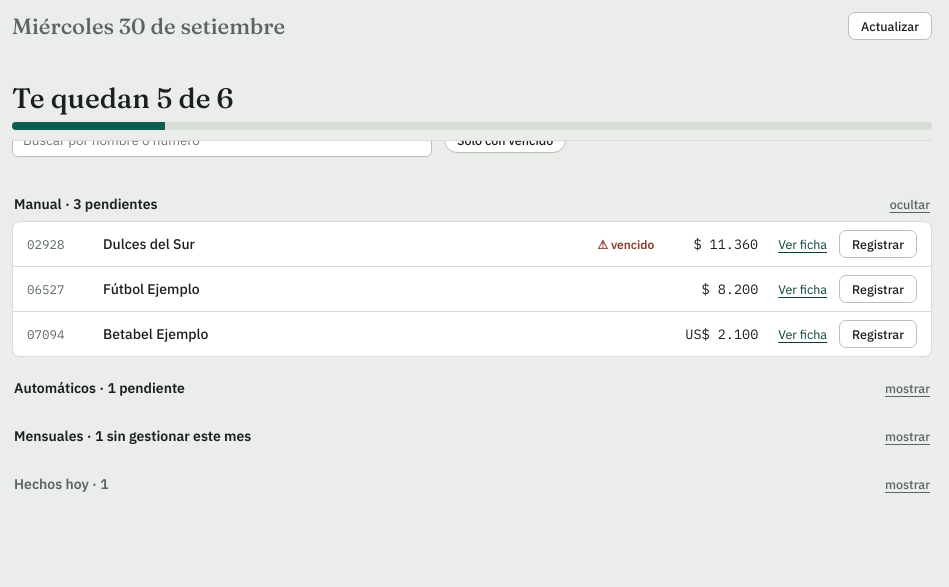
Test: MiDiaPage: registrar sin salir › 'No contactado' queda anotado pero el cliente sigue pendiente
This screenshot has width=949, height=587.
Expected: the text "Te quedan 5 de 6" is shown, [12, 81, 234, 115]
Click the button with aria-label "Registrar gestión de Dulces del Sur" at (878, 244), box [839, 230, 917, 258]
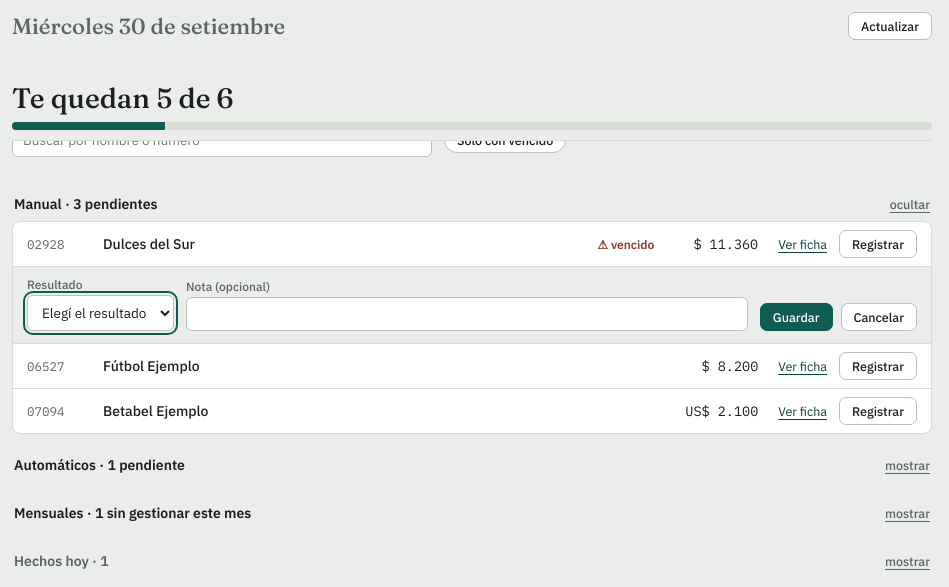
Select "No contactado" in the dropdown labelled "Resultado" at (100, 313), box [27, 295, 174, 331]
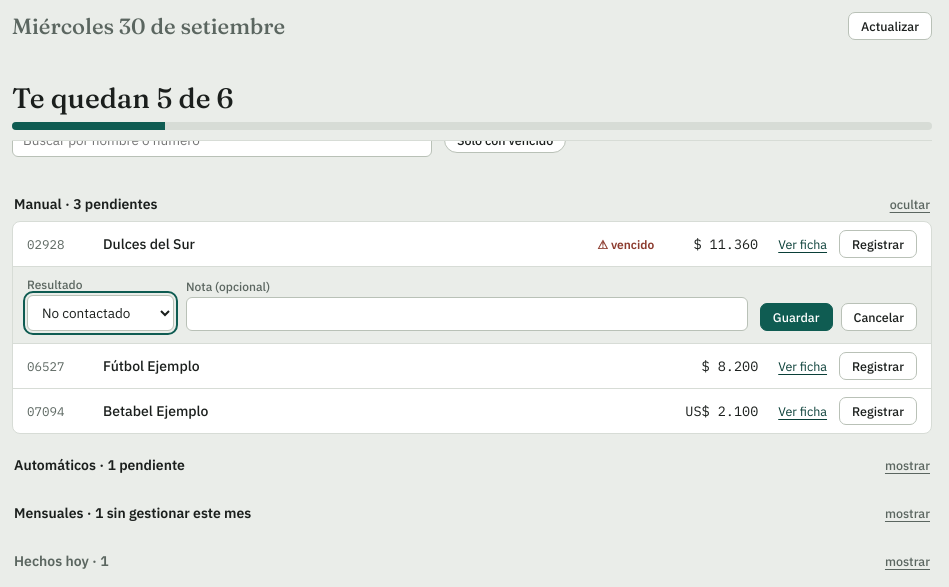
Click the button "Guardar" at (796, 317), box [760, 303, 832, 331]
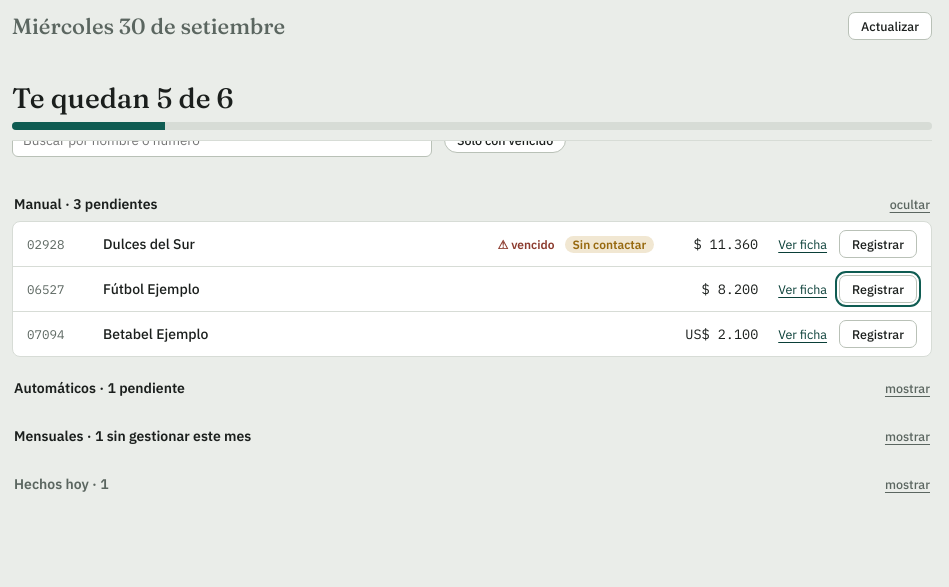
Expected: the text "Te quedan 5 de 6" is shown, [12, 81, 234, 115]
Expected: the text "Sin contactar" is shown, [564, 236, 654, 253]
